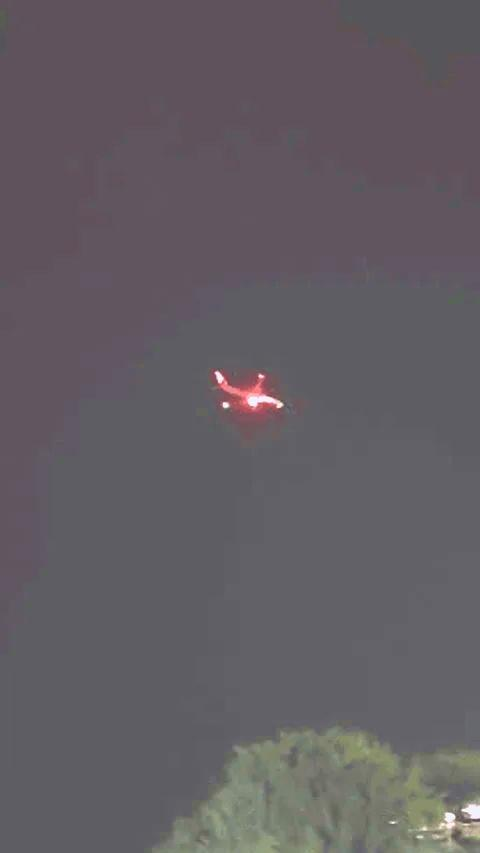Plane: (183, 326, 316, 462)
